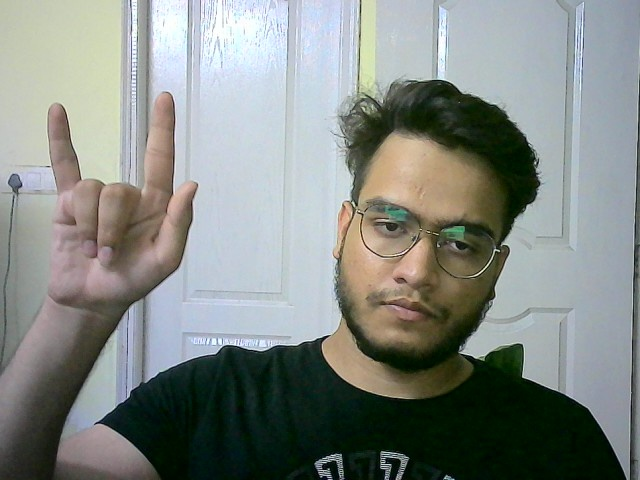I Love You: (38, 87, 203, 319)
